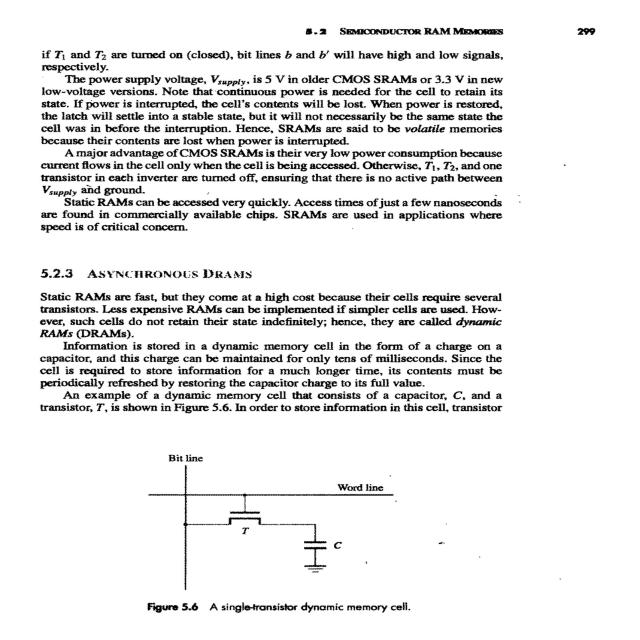diagram: (52, 437, 577, 635), (639, 212, 640, 260), (639, 182, 640, 217)
